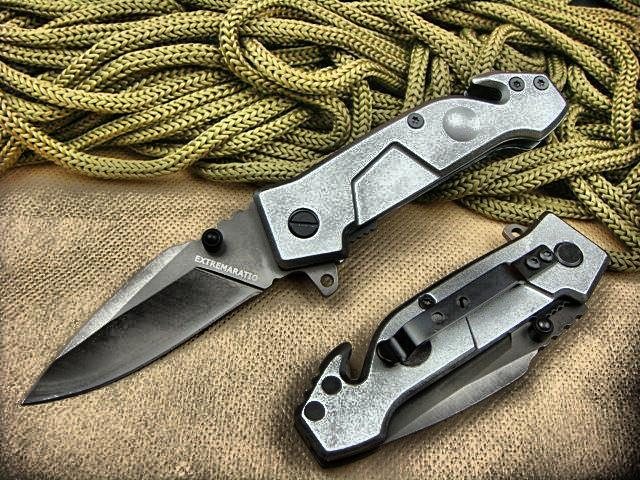knife: (13, 192, 290, 412)
